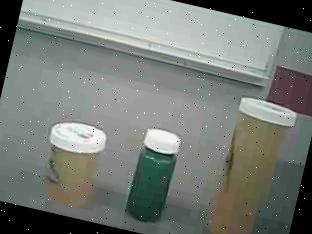Bottle A: (194, 83, 301, 234)
Bottle B: (30, 112, 112, 216)
Bottle C: (117, 120, 190, 234)
